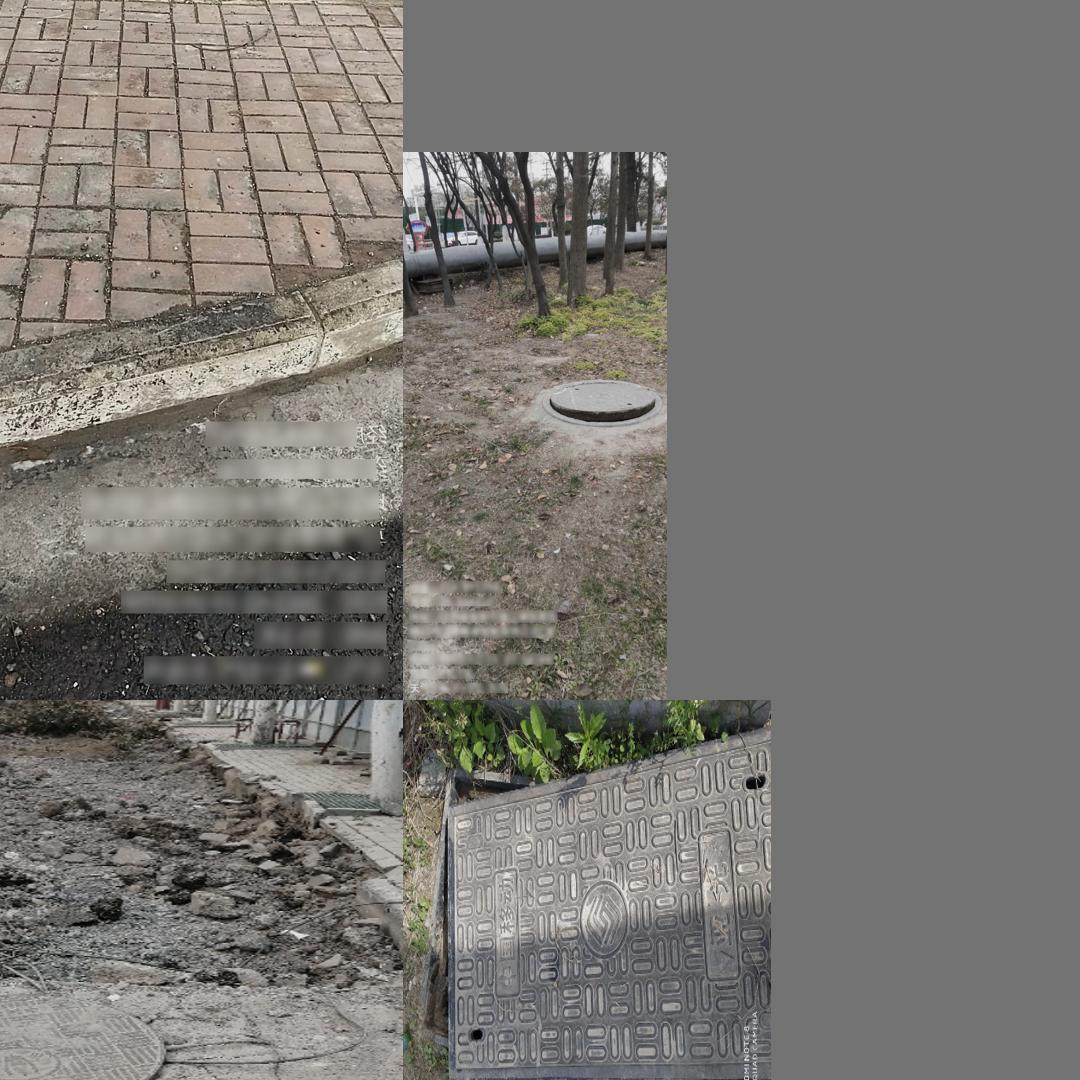uncovered: (417, 725, 771, 1080), (0, 996, 166, 1080), (543, 379, 662, 426)
